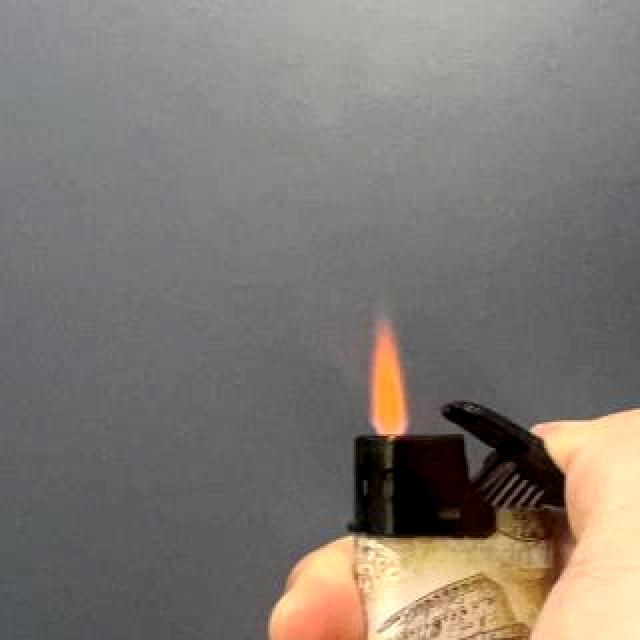fire: (366, 318, 414, 436)
